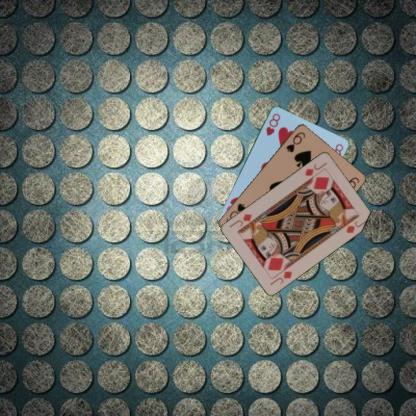6s: (284, 129, 306, 154)
8h: (263, 110, 282, 137)
Jd: (302, 159, 329, 177), (267, 268, 293, 286)
